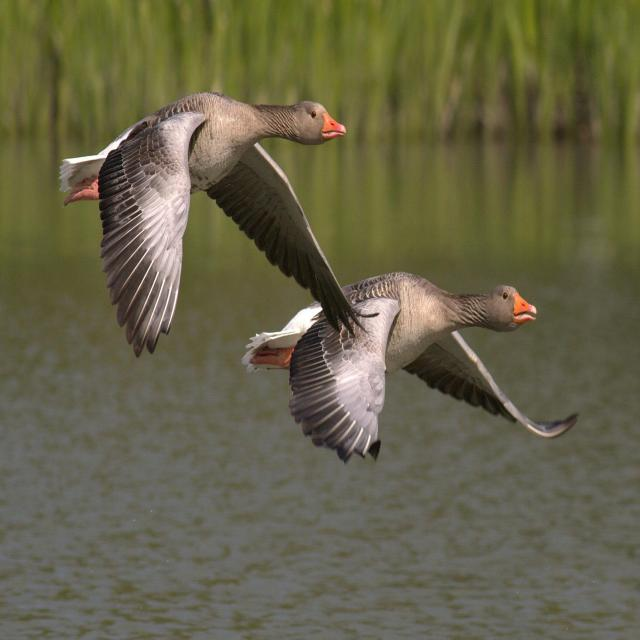Goose: (56, 84, 350, 361), (238, 262, 582, 472)
